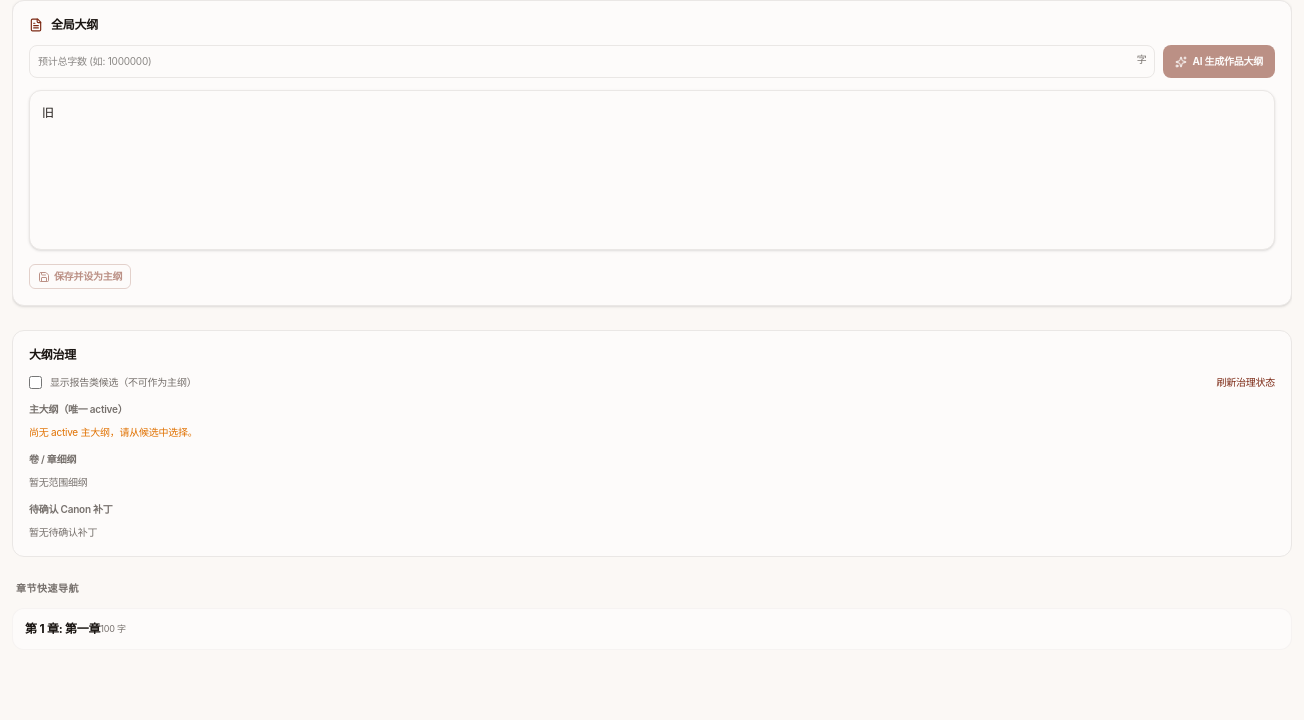
Test: OutlineTab - Plan 135 Behavior Tests › reconciliation reports unchanged active master without local sync
Replace the text in the text box with "新". click: (652, 170)
box: [29,90,1275,250]
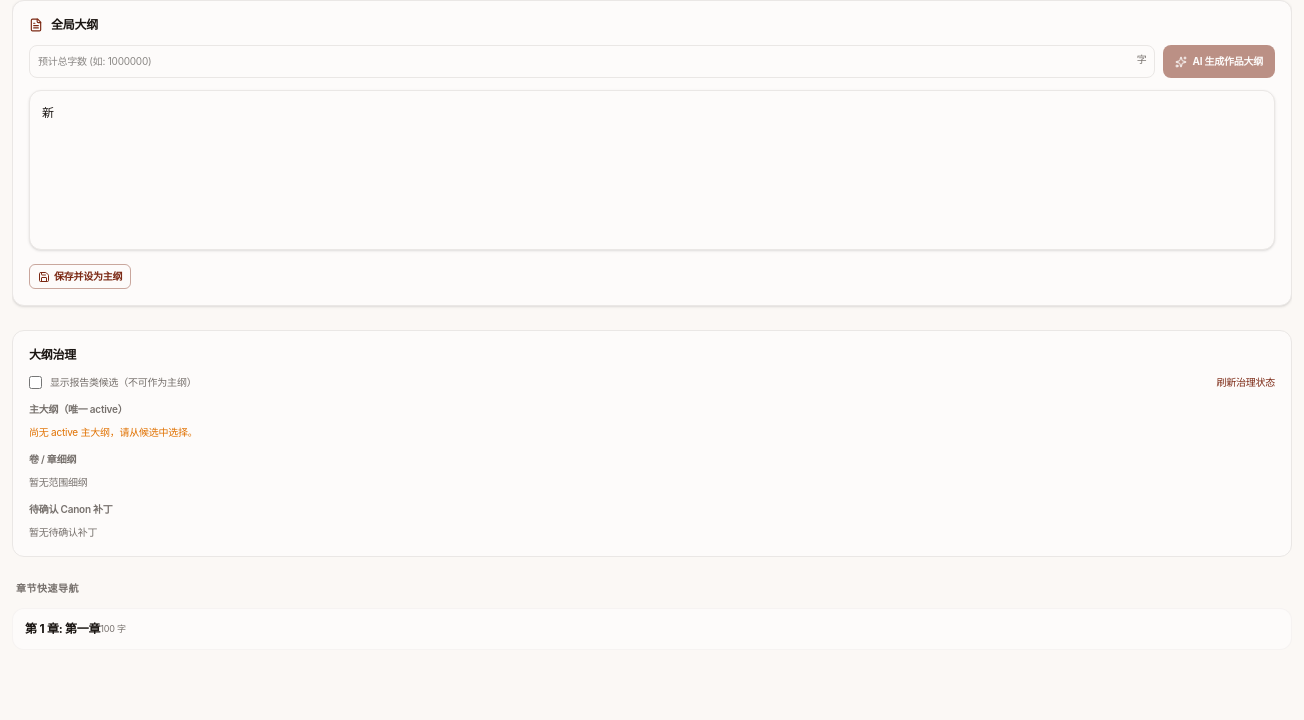
Click the button "保存并设为主纲". click: click(80, 276)
box: [29,264,131,289]
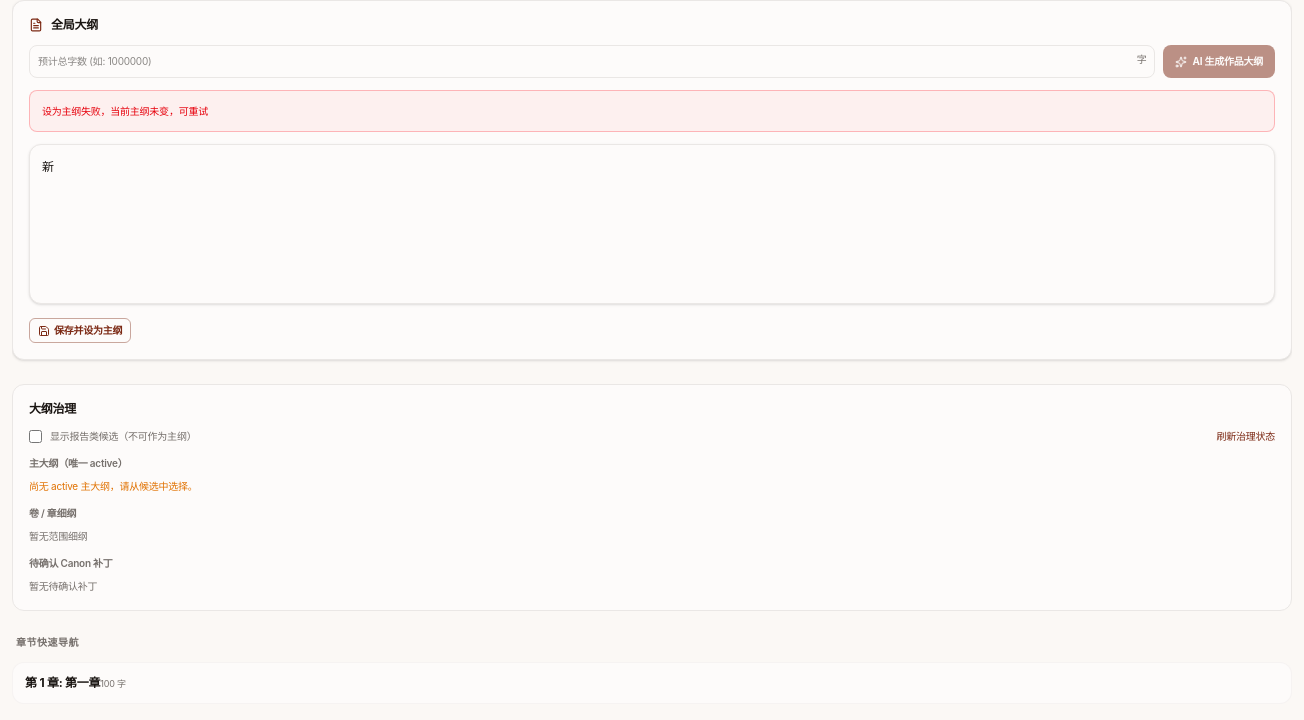
Check: the text "设为主纲失败，当前主纲未变，可重试" is shown, box [29,90,1275,132]
